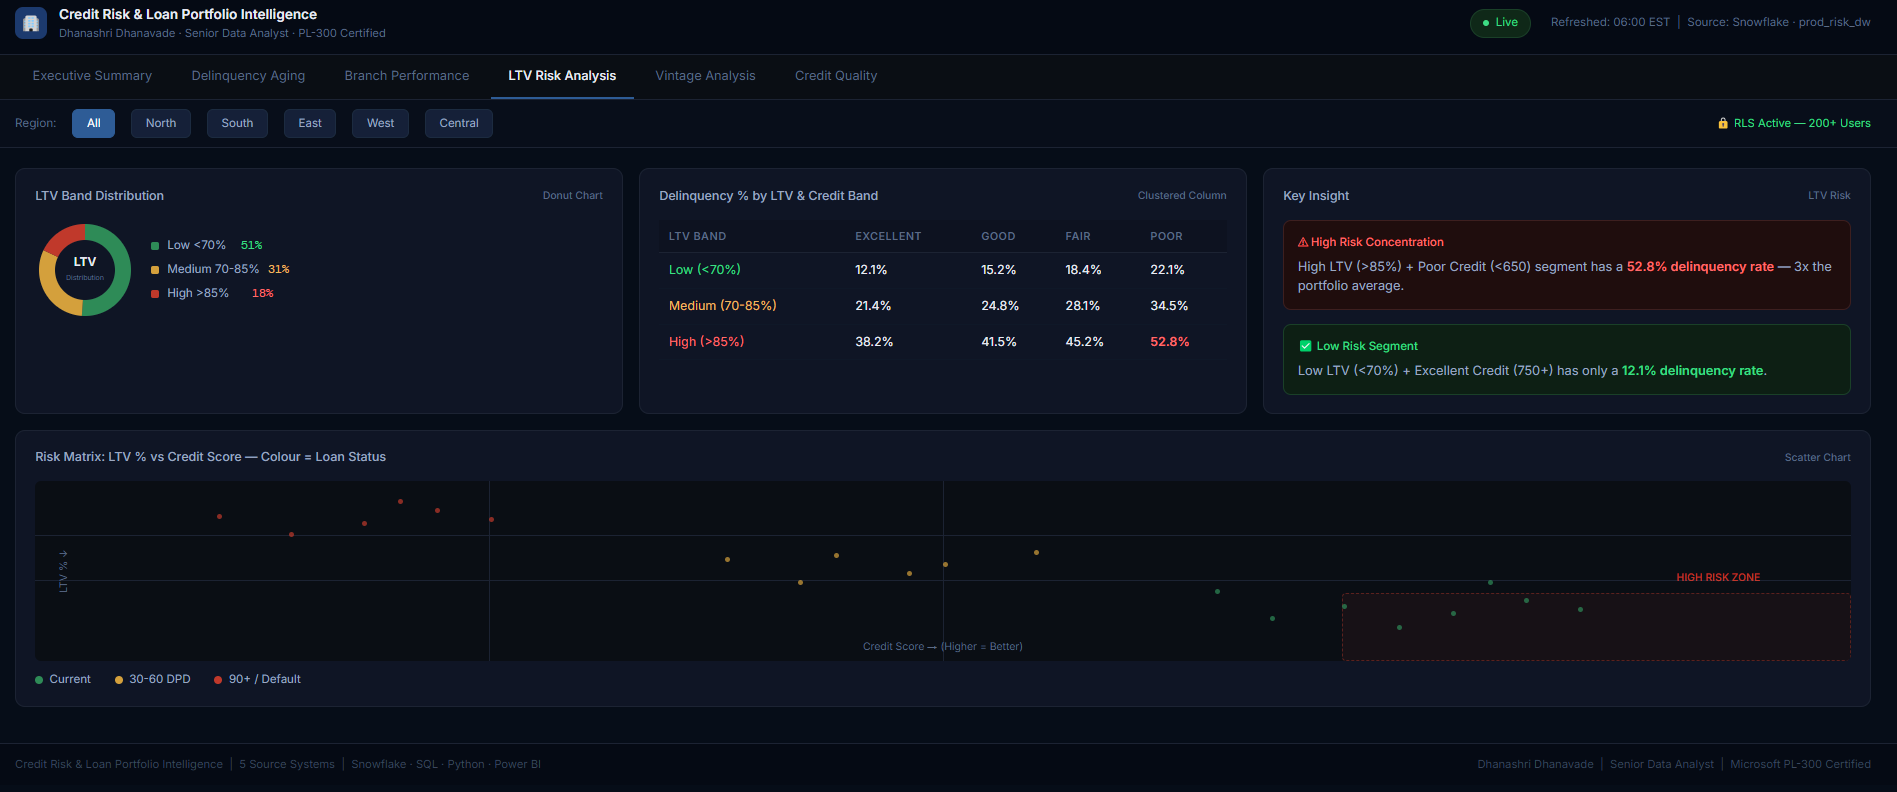

Layout of this report page (visuals, bound fields, positions):
{"tool":"powerbi","page":{"name":"LTV Risk Analysis","canvas":[1280,720],"ordinal":3},"visuals":[{"type":"textbox","box":[10,0,280,280],"z":0},{"type":"donutChart","fields":{"Category":["pbi_master_loans.LTV_Band"],"Y":["CountNonNull(pbi_master_loans.LoanID)"]},"box":[10,290,280,280],"z":1},{"type":"clusteredColumnChart","fields":{"Category":["pbi_master_loans.LTV_Band"],"Y":["pbi_master_loans.Delinquency Rate"],"Series":["pbi_master_loans.CreditBand"]},"box":[577.7,329.8,279.4,149.8],"z":2},{"type":"scatterChart","fields":{"X":["Sum(pbi_master_loans.CreditScore)"],"Y":["Sum(pbi_master_loans.LTV)"],"Series":["pbi_master_loans.LoanStatus"],"Category":["pbi_master_loans.LoanID"]},"box":[920,405.3,279.4,197.6],"z":3},{"type":"slicer","fields":{"Values":["pbi_master_loans.Region"]},"box":[10,570,280,150],"z":4}]}

Visuals, with their boxes on the page's 1280x720 design canvas (x1, y1, x2, y2). These are canvas units, not pixel positions in the 1897x792 screenshot, which may show the page scaled, cropped or inside an application window:
textbox: 10, 0, 290, 280
donutChart - pbi_master_loans.LTV_Band x CountNonNull(pbi_master_loans.LoanID): 10, 290, 290, 570
clusteredColumnChart - pbi_master_loans.LTV_Band x pbi_master_loans.Delinquency Rate: 578, 330, 857, 480
scatterChart - Sum(pbi_master_loans.CreditScore) x Sum(pbi_master_loans.LTV): 920, 405, 1199, 603
slicer - pbi_master_loans.Region: 10, 570, 290, 720
